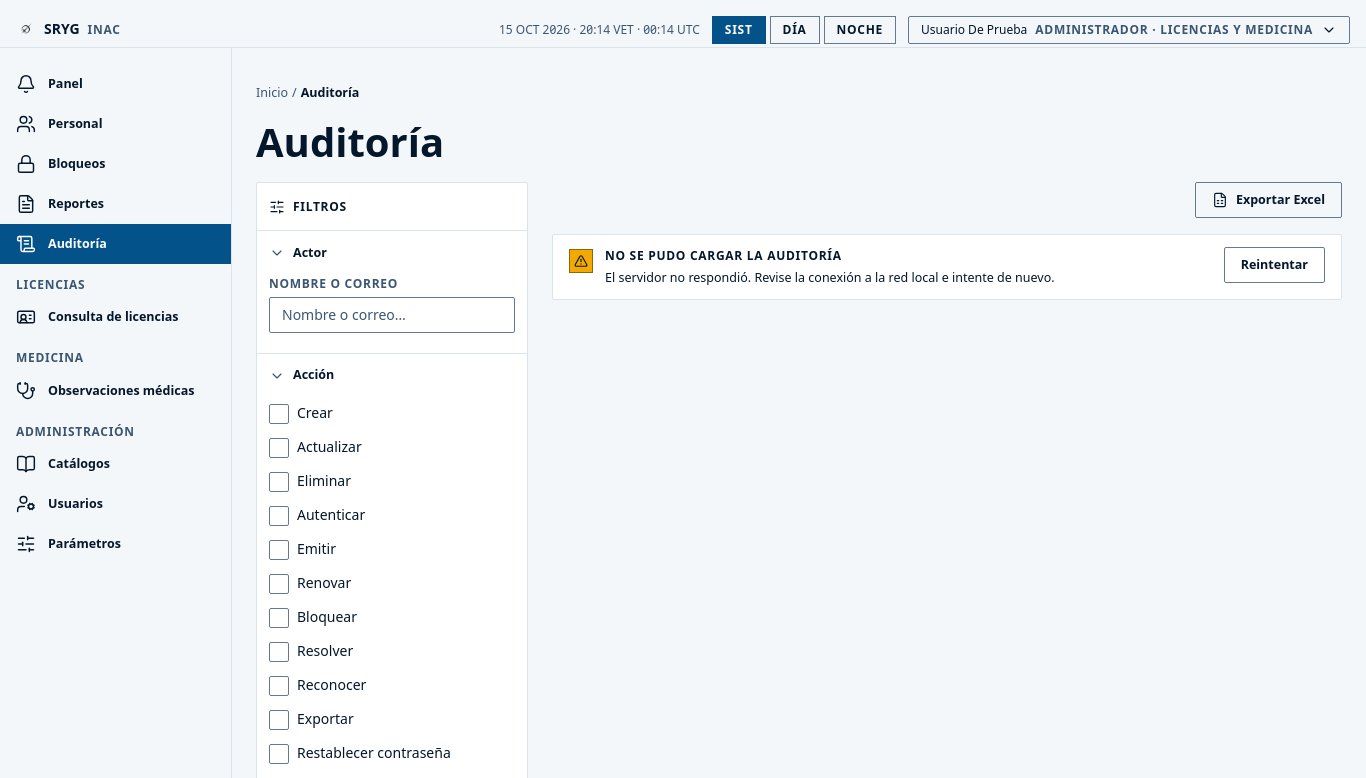
Test: /auditoria (REP-04) › shows the empty state and the error state with a retry
Expected: the text "No se pudo cargar la auditoría" is shown, [605,247,842,264]
Click the button "Reintentar" at x=1274, y=265, box [1224,247,1325,283]
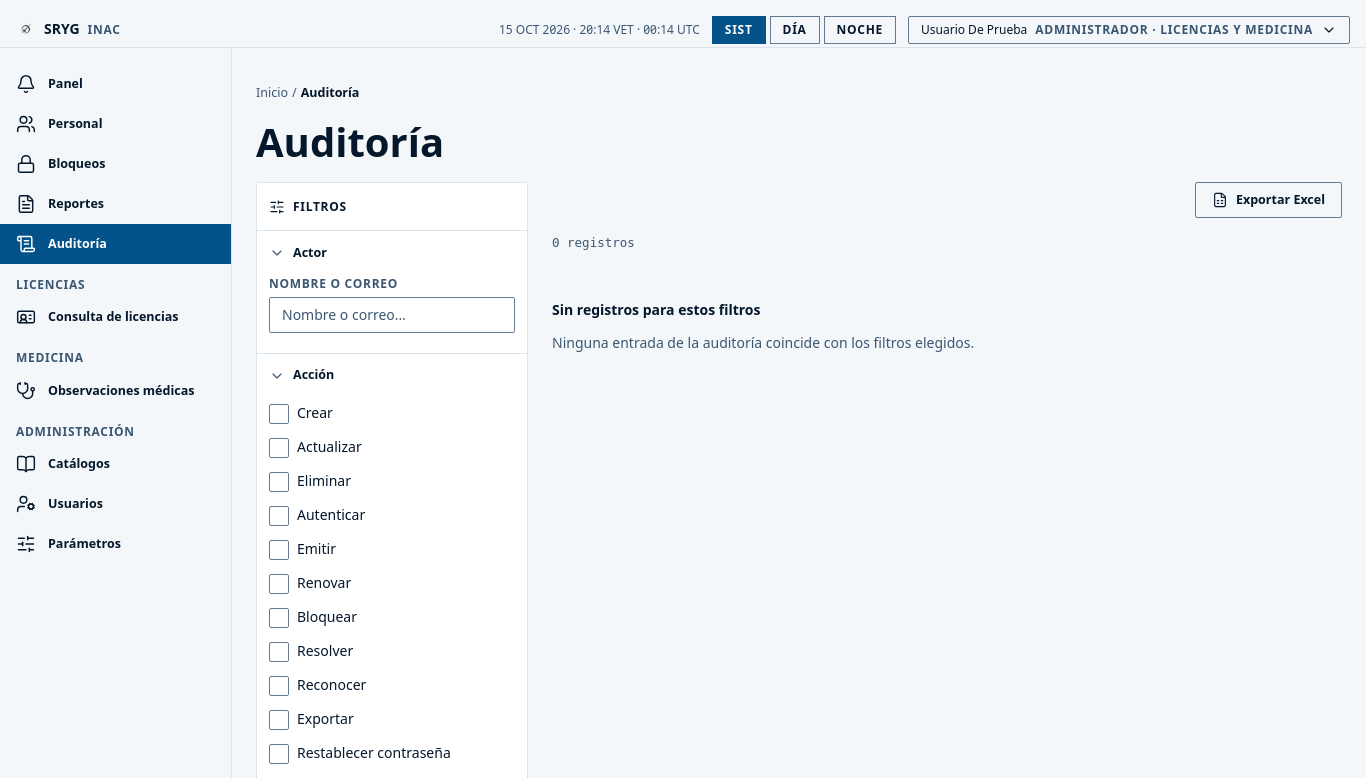
Now the text "Sin registros para estos filtros" is shown, box [552,300,760,321]
